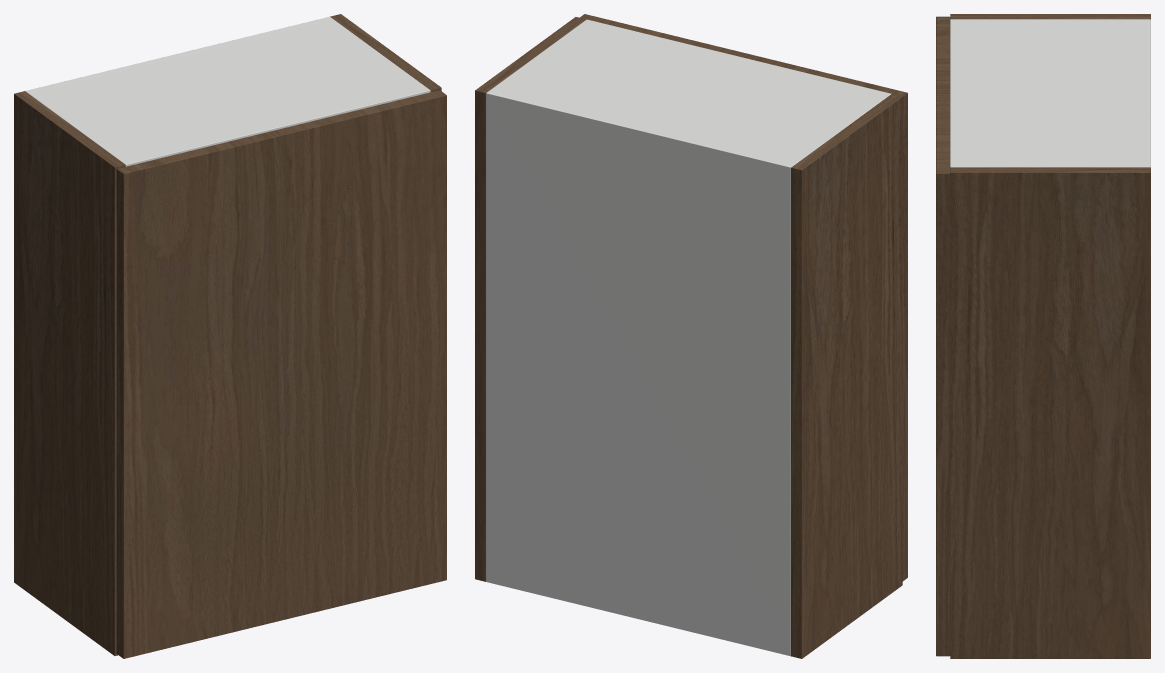
The model's file is oppein-pb-mso-w2130.glb.
The picture shows the model from 3 angles, left to right: view 1: azimuth 30°, elevation 25°; view 2: azimuth 150°, elevation 25°; view 3: azimuth 270°, elevation 25°; orthographic projection.
Parts seen in each view (by area): view 1: Door, Cabinet side, Cabinet top, Cabinet back, Cabinet side.001; view 2: Cabinet back, Cabinet side, Cabinet top, Cabinet side.001, Door, Cabinet bottom; view 3: Cabinet side.001, Cabinet top, Door, Cabinet back, Cabinet side.
Part boxes in pixels (x1,y1,x2,y2): Door: (116,90,446,658); Cabinet side: (14,91,125,655); Cabinet top: (25,17,430,166); Cabinet back: (26,16,333,93); Cabinet side.001: (330,14,441,92); Cabinet back: (486,90,794,655); Cabinet side: (791,94,902,658); Cabinet top: (486,19,891,177); Cabinet side.001: (475,17,586,581); Door: (580,14,907,581); Cabinet bottom: (486,571,790,656); Cabinet side.001: (950,167,1150,658); Cabinet top: (950,19,1150,167); Door: (936,16,950,656); Cabinet back: (1142,19,1150,167); Cabinet side: (950,14,1150,19).
Bounding box in the file's own units: 0.5334 × 0.762 × 0.3048.
2 materials, 1 textured.
